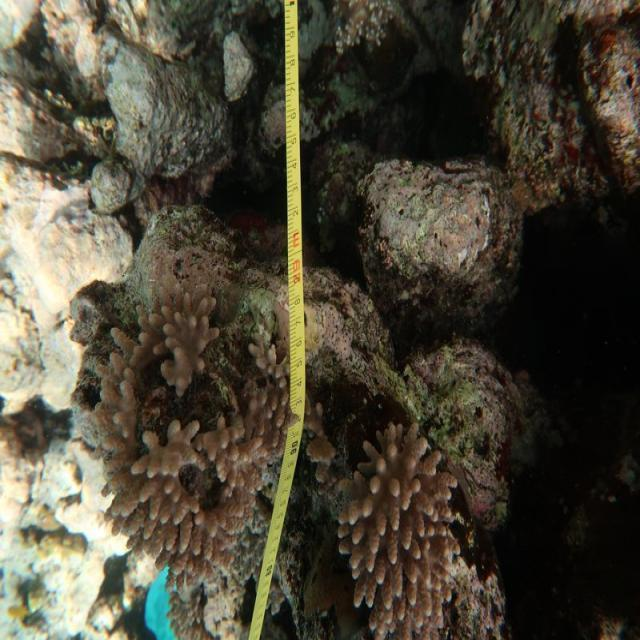Healthy Coral: (98, 278, 275, 574), (339, 417, 480, 640)
